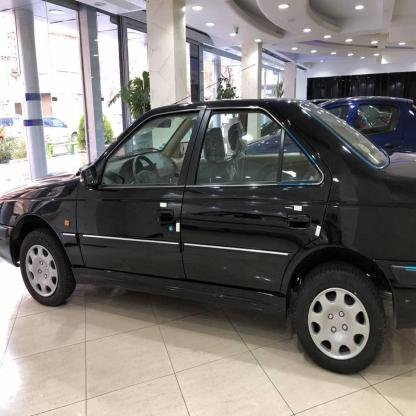Car: (0, 92, 416, 377), (241, 94, 416, 169), (0, 113, 74, 145)
